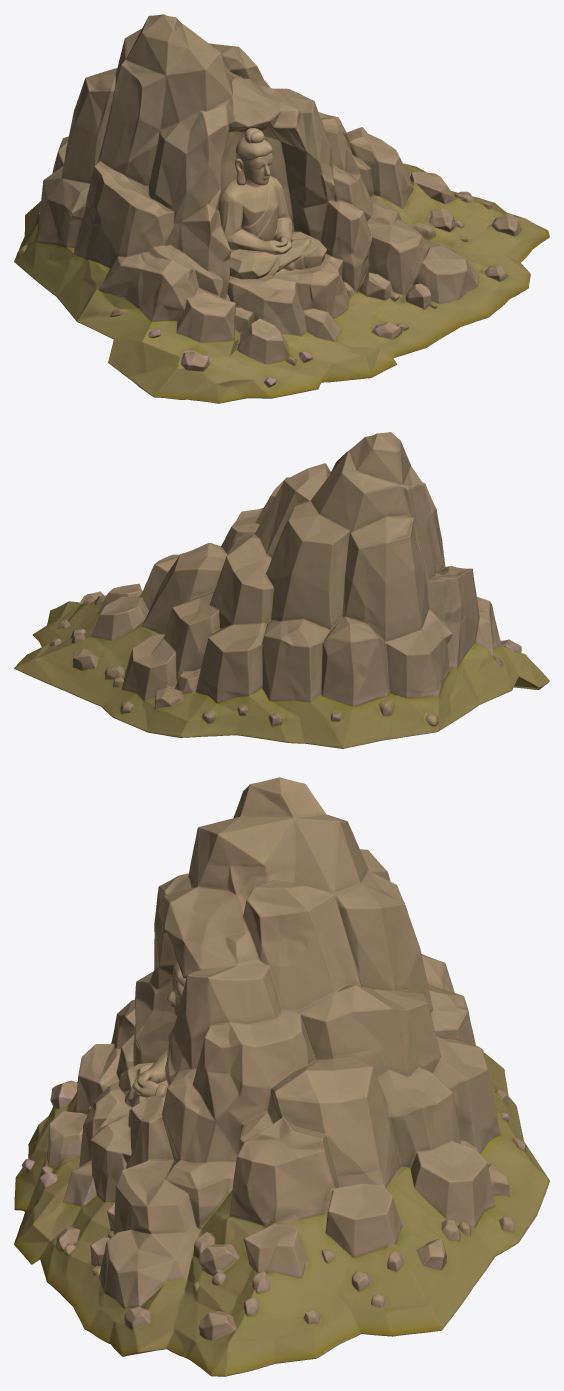
File: changan-cliff-buddha-v2.glb
The picture shows the model from 3 angles, top to bottom: view 1: azimuth 30°, elevation 25°; view 2: azimuth 150°, elevation 25°; view 3: azimuth 270°, elevation 25°; orthographic projection. The views are drawn at different scales.
Visible parts, largest first — view 1: tripo_node_00363c5e-5863-4e2f-95f6-425c451ddd1d; view 2: tripo_node_00363c5e-5863-4e2f-95f6-425c451ddd1d; view 3: tripo_node_00363c5e-5863-4e2f-95f6-425c451ddd1d.
Boxes of the visible parts, left/top/right/bottom form: tripo_node_00363c5e-5863-4e2f-95f6-425c451ddd1d: left=14, top=14, right=549, bottom=403; tripo_node_00363c5e-5863-4e2f-95f6-425c451ddd1d: left=14, top=432, right=549, bottom=748; tripo_node_00363c5e-5863-4e2f-95f6-425c451ddd1d: left=14, top=777, right=549, bottom=1376.
Size of the model in its own units: 1 by 0.6285 by 0.7585.
Materials: 1 (1 with a texture image).
